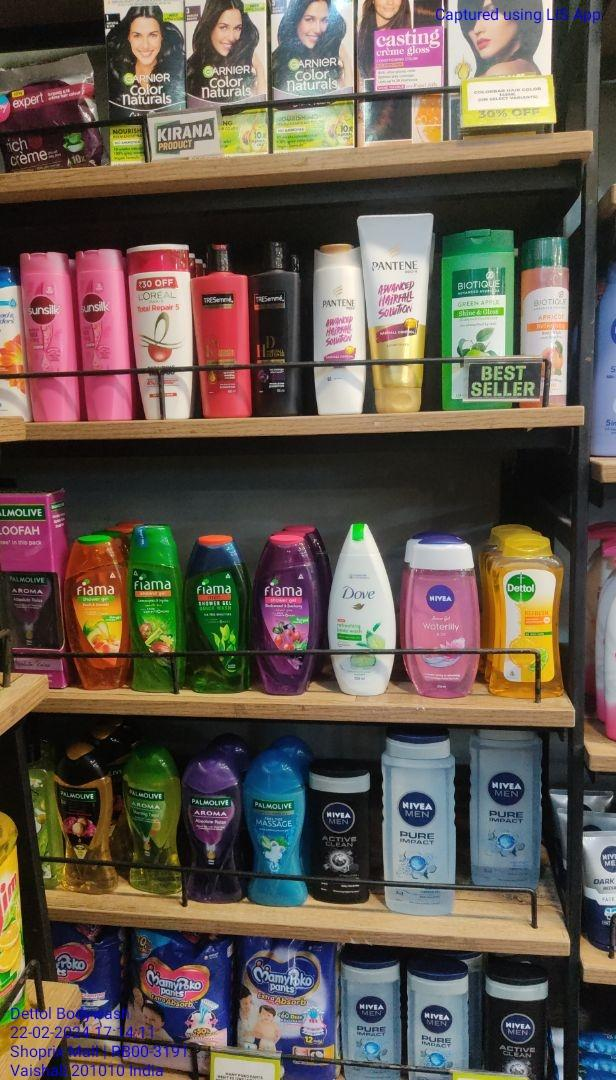Dettol_Bodywash_Refresh: (492, 532, 562, 698)
Dove_Refreshing_Body_Wash_250ML: (328, 526, 395, 697)
Fiama_Shower_Gel_Lemongrass_and_Jojoba_250ML: (130, 527, 181, 695)
Fiama_Shower_Gel_Peach_and_Avocado_250ML: (64, 528, 125, 686)
Nivea_Shower_Gel_Waterlily_and_Oil_250ML: (403, 541, 481, 697)
Palmolive_Aroma_Moments_Feel_The_Massage_Shower_Gel_250ML: (246, 759, 308, 906)
Palmolive_Aroma_Morning_Tonic_Shower_Gel_250ML: (124, 750, 181, 895)
Palmolive_Aroma_Relax_250ML: (186, 758, 240, 903)
Palmolive_Luminous_Oils_Invigorating_Macadamia_Oil_With_Peony_250ML: (59, 746, 117, 888)
